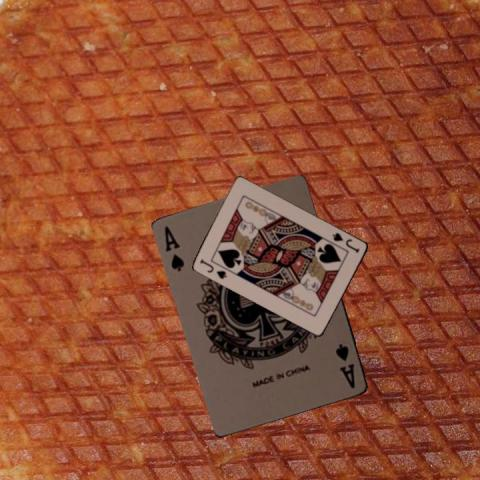As: (161, 223, 187, 273), (333, 340, 357, 390)
Js: (330, 229, 361, 255), (197, 256, 228, 281)
